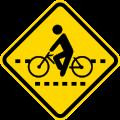Cycle Crossing: (4, 4, 113, 116)
